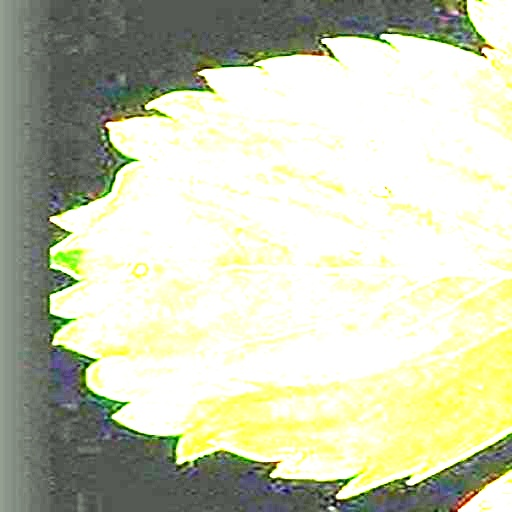Leaf Spot: (46, 34, 511, 499)
